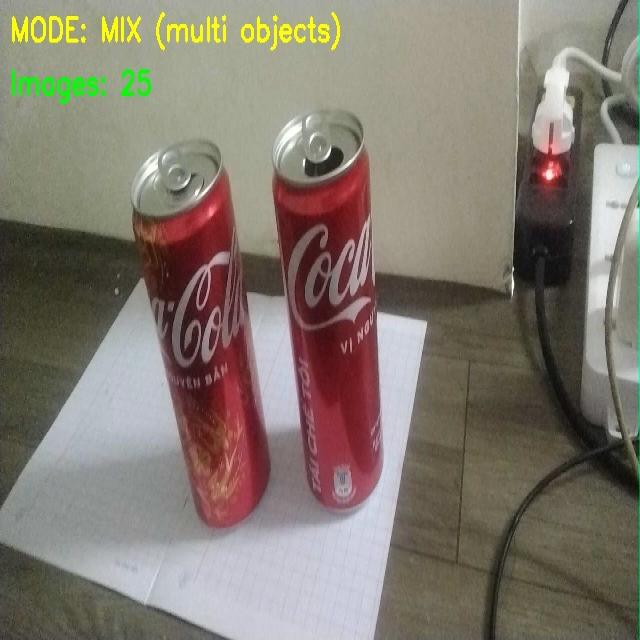Coca: (113, 139, 285, 538)
Coca_open: (265, 112, 427, 516)
